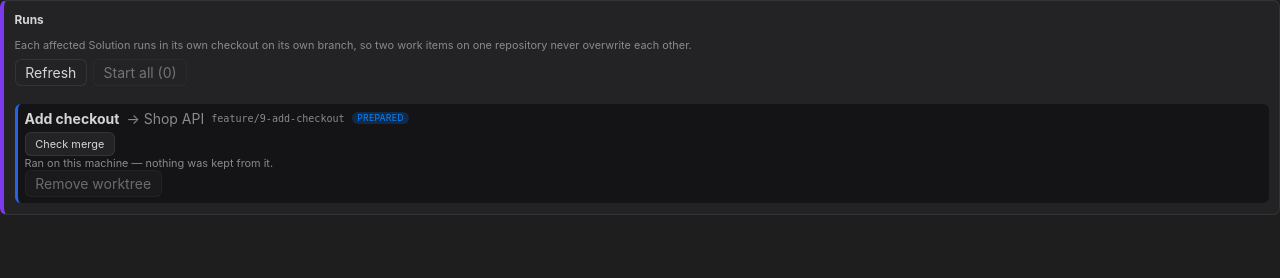
Scenario: RunsPanel › checks a merge and reports it as clean
Click the button with aria-label "Check merge for Add checkout on Shop API" at (70, 144), box [24,132,115,156]
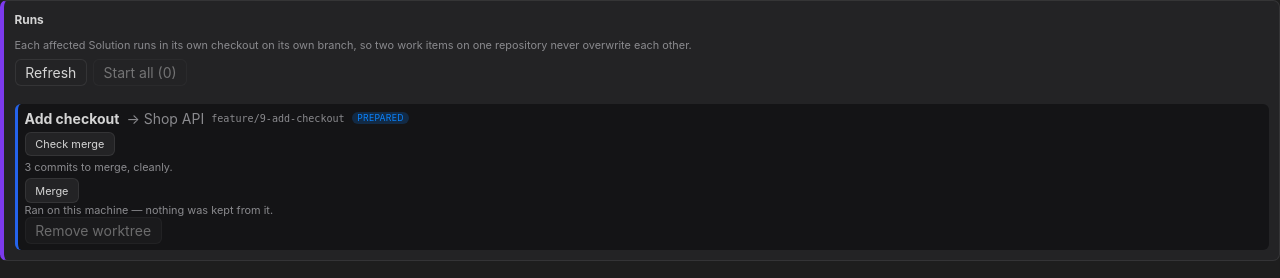
Expected: the text "3 commits to merge, cleanly." is shown, [24,160,173,174]
Expected: the button with aria-label "Merge Add checkout on Shop API" is shown, [24,178,79,203]
